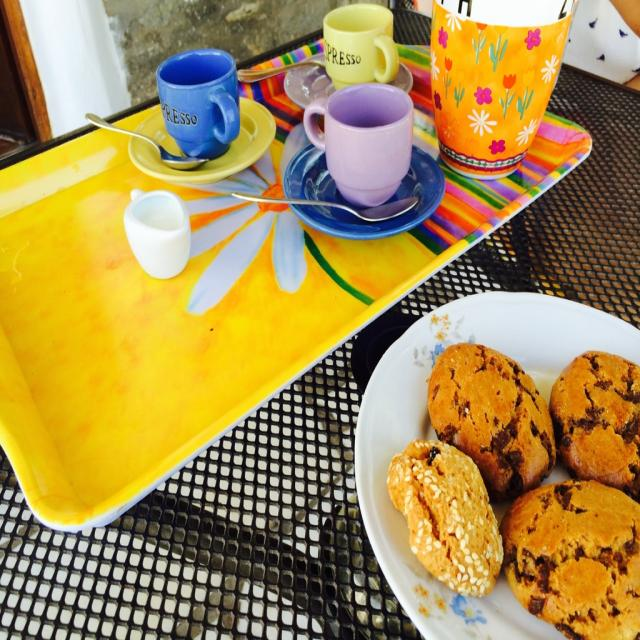non-organic waste: (300, 86, 420, 222), (148, 45, 249, 166), (316, 0, 405, 85)
